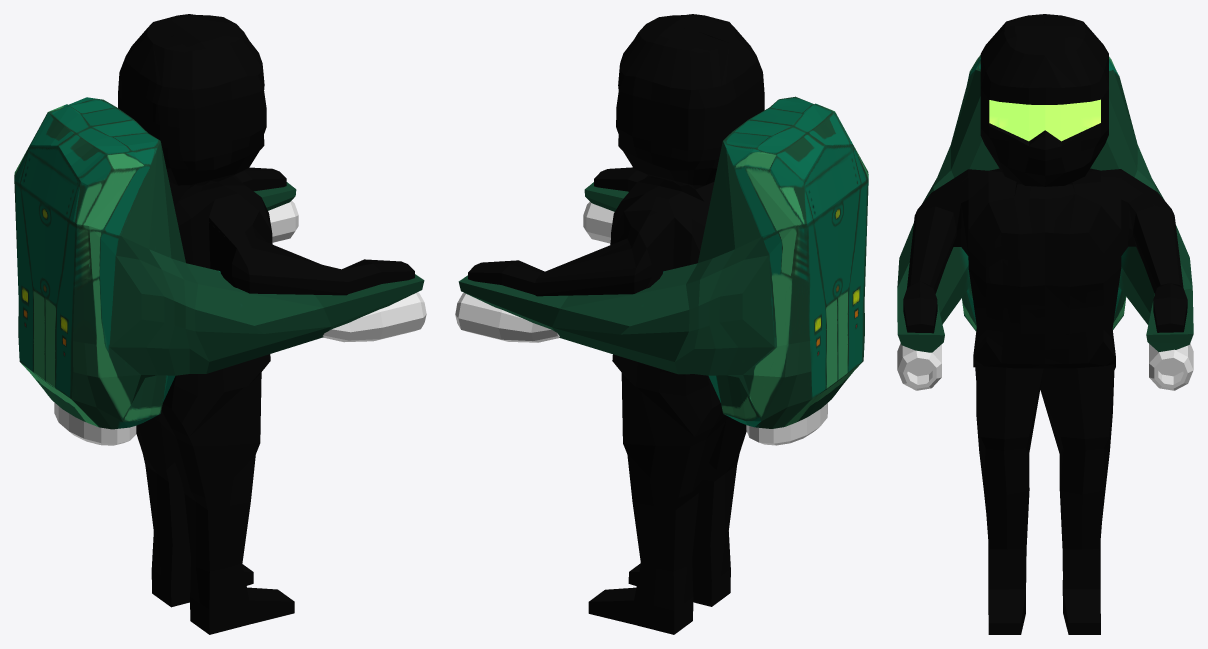
File: Jet.fbx
3 renders of one model, left to right at view 1: azimuth 30°, elevation 25°; view 2: azimuth 150°, elevation 25°; view 3: azimuth 270°, elevation 25°, orthographic.
Visible parts, largest first — view 1: Cube.009, Cylinder.001, Cylinder.002, Cylinder; view 2: Cube.009, Cylinder, Cylinder.002, Cylinder.001; view 3: Cube.009, Cylinder, Cylinder.001.
Part boxes in pixels (x1,y1,x2,y2): Cube.009: [14, 14, 424, 634]; Cylinder.001: [323, 292, 426, 342]; Cylinder.002: [54, 402, 136, 445]; Cylinder: [268, 200, 298, 242]; Cube.009: [458, 14, 868, 634]; Cylinder: [455, 293, 559, 342]; Cylinder.002: [746, 403, 827, 445]; Cylinder.001: [583, 201, 614, 243]; Cube.009: [897, 14, 1193, 634]; Cylinder: [1149, 343, 1193, 390]; Cylinder.001: [897, 343, 941, 390].
Size of the model in its own units: 112 by 200 by 94.22.
4 materials, 1 textured.
